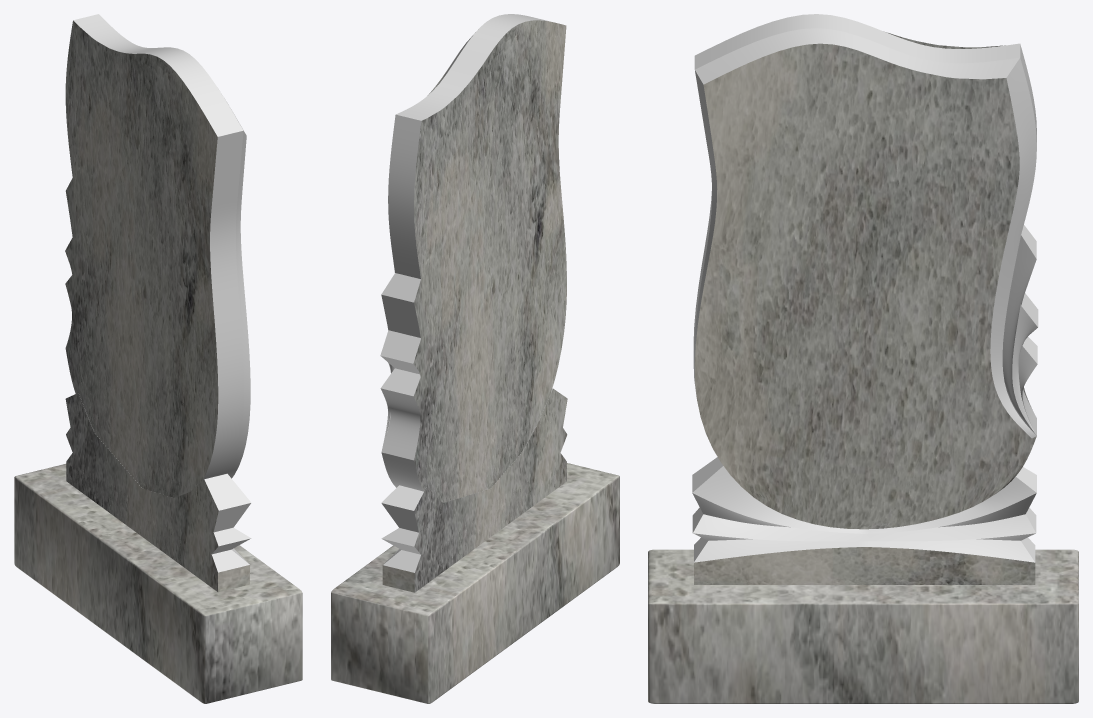
The model's file is Резной [marble_1_standard] (80).glb.
The picture shows the model from 3 angles, left to right: view 1: azimuth 30°, elevation 25°; view 2: azimuth 150°, elevation 25°; view 3: azimuth 270°, elevation 25°; orthographic projection. The views are drawn at different scales.
Visible parts, largest first — view 1: Cube.007, Куб.004, Cube.008; view 2: Cube.007, Куб.004, Cube.008; view 3: Cube.007, Куб.004, Cube.008.
Part boxes in pixels (x1,y1,x2,y2): Cube.007: (65, 14, 250, 497); Куб.004: (14, 464, 302, 703); Cube.008: (65, 393, 251, 592); Cube.007: (380, 14, 566, 502); Куб.004: (331, 463, 619, 703); Cube.008: (381, 388, 567, 592); Cube.007: (693, 14, 1038, 529); Куб.004: (648, 549, 1078, 703); Cube.008: (692, 457, 1036, 584).
Size of the model in its own units: 0.15 by 0.8386 by 0.5.
Materials: 4 (2 with a texture image).
